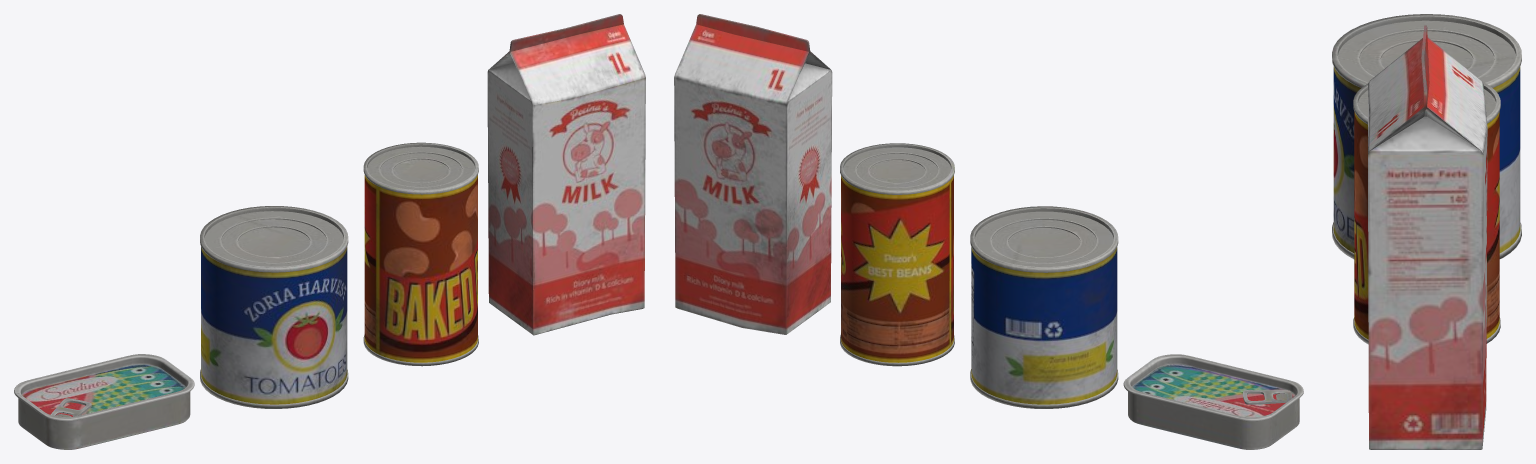
Rendered from long_life_food.glb.
The picture shows the model from 3 angles, left to right: view 1: azimuth 30°, elevation 25°; view 2: azimuth 150°, elevation 25°; view 3: azimuth 270°, elevation 25°; orthographic projection. The views are drawn at different scales.
Visible parts, largest first — view 1: long_life_food_milk, long_life_food_tomatoes, long_life_food_beans, long_life_food_sardines; view 2: long_life_food_milk, long_life_food_tomatoes, long_life_food_beans, long_life_food_sardines; view 3: long_life_food_milk, long_life_food_tomatoes, long_life_food_beans.
Part boxes in pixels (box(x1,y1,x2,y2)): long_life_food_milk: box(487, 14, 645, 335); long_life_food_tomatoes: box(200, 206, 348, 408); long_life_food_beans: box(363, 142, 478, 366); long_life_food_sardines: box(14, 354, 194, 449); long_life_food_milk: box(674, 14, 832, 334); long_life_food_tomatoes: box(970, 206, 1118, 408); long_life_food_beans: box(840, 143, 954, 366); long_life_food_sardines: box(1123, 354, 1303, 449); long_life_food_milk: box(1368, 25, 1487, 449); long_life_food_tomatoes: box(1332, 14, 1521, 259); long_life_food_beans: box(1353, 81, 1500, 344).
Size of the model in its own units: 0.5238 by 0.2376 by 0.1136.
1 material, 1 textured.
